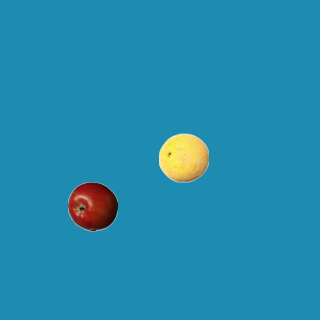Apple Braeburn: (67, 181, 117, 231)
Cantaloupe 1: (158, 132, 208, 182)
